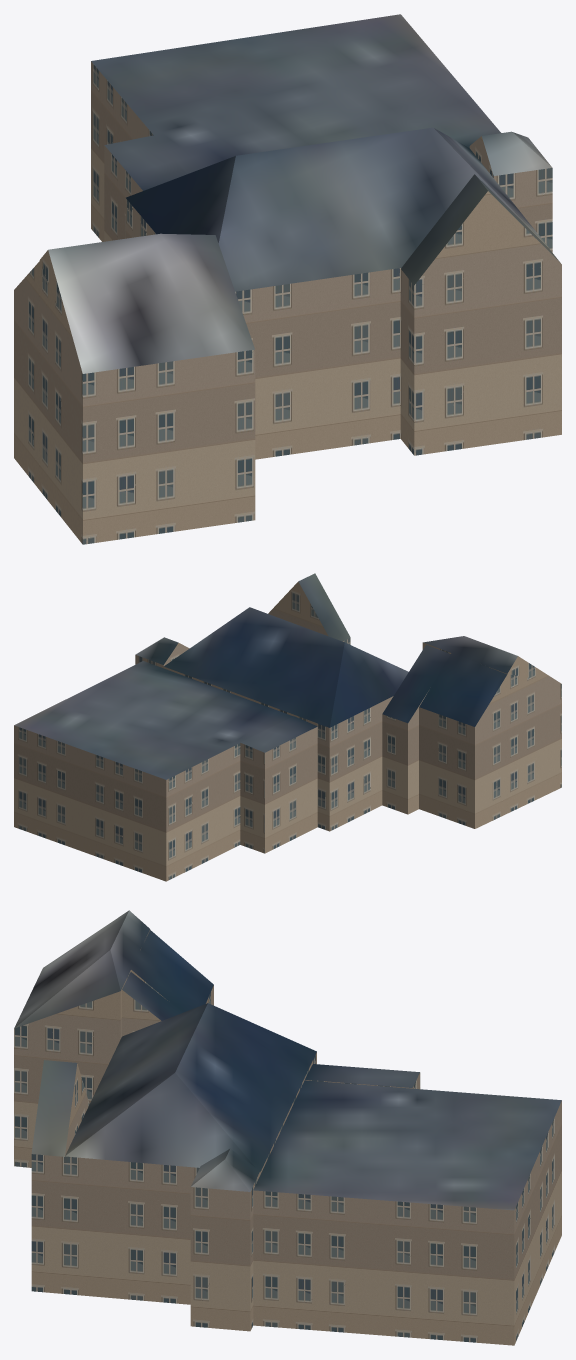
The model's file is GHS_Dohr_Torfbend.glb.
3 renders of one model, top to bottom at view 1: azimuth 30°, elevation 25°; view 2: azimuth 150°, elevation 25°; view 3: azimuth 270°, elevation 25°, orthographic. The views are drawn at different scales.
Parts seen in each view (by area): view 1: GHS_Dohr_Torfbend; view 2: GHS_Dohr_Torfbend; view 3: GHS_Dohr_Torfbend.
Part boxes in pixels (box(x1,y1,x2,y2)): GHS_Dohr_Torfbend: box(14, 14, 561, 544); GHS_Dohr_Torfbend: box(14, 573, 561, 881); GHS_Dohr_Torfbend: box(14, 910, 561, 1345).
Bounding box in the file's own units: 33.85 × 13.48 × 32.64.
Materials: 3 (2 with a texture image).
